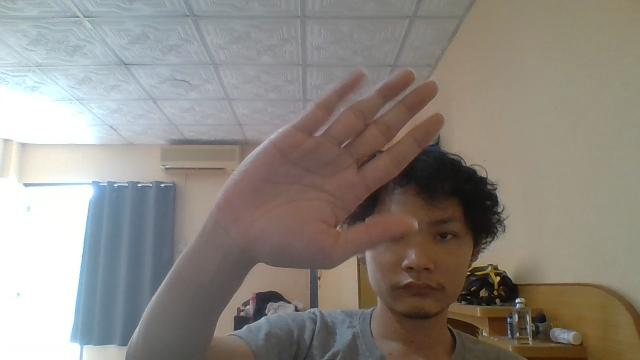Stop: (213, 66, 444, 270)
